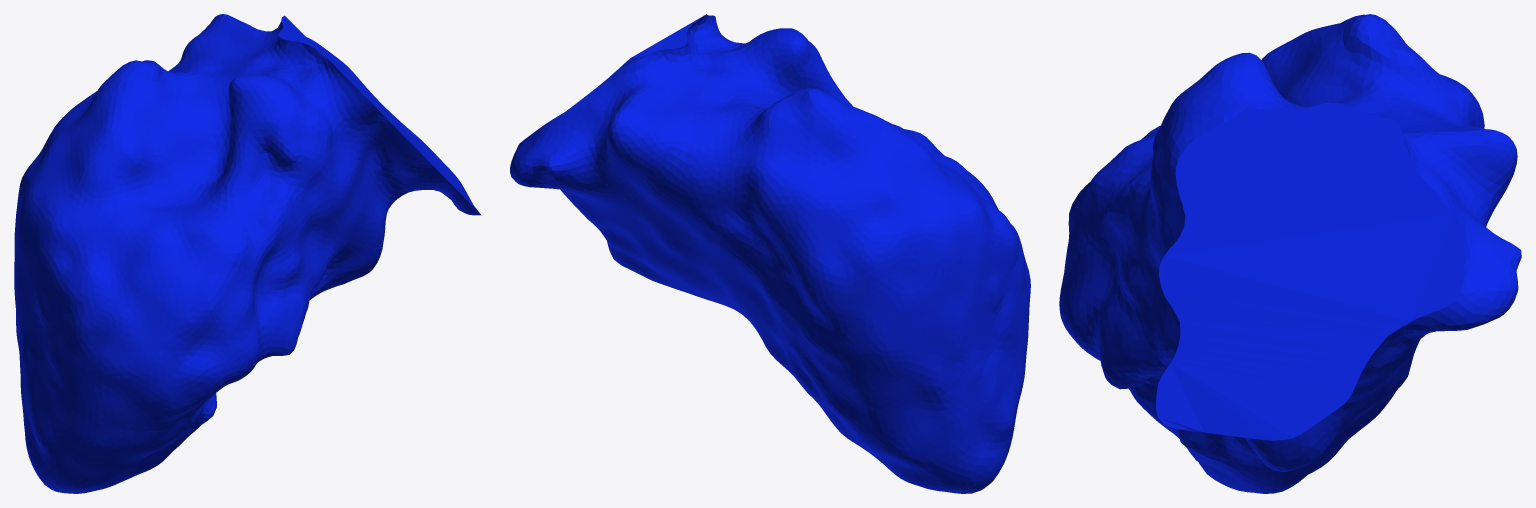
3 renders of one model, left to right at view 1: azimuth 30°, elevation 25°; view 2: azimuth 150°, elevation 25°; view 3: azimuth 270°, elevation 25°, orthographic. The views are drawn at different scales.
Parts seen in each view (by area): view 1: 2018002 Left Ventricle; view 2: 2018002 Left Ventricle; view 3: 2018002 Left Ventricle.
Part boxes in pixels (x1,y1,x2,y2): 2018002 Left Ventricle: [14, 14, 481, 493]; 2018002 Left Ventricle: [510, 14, 1030, 493]; 2018002 Left Ventricle: [1059, 14, 1521, 493].
Size of the model in its own units: 88.85 by 74.99 by 59.93.
